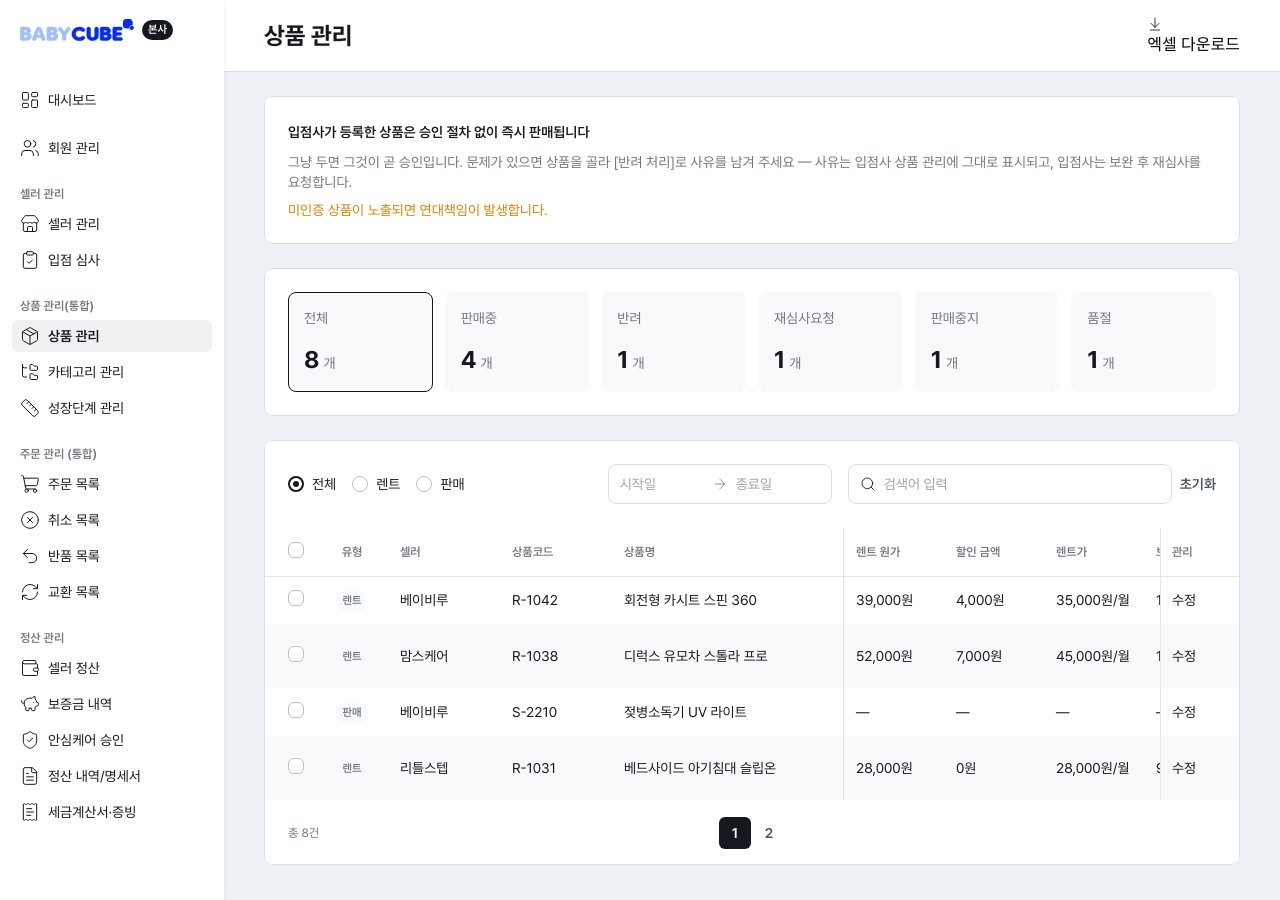
it: ProductListPage › 행 선택과 일괄 처리 › 헤더 체크박스로 현재 페이지를 한 번에 고르면 일괄 바가 뜬다
Expected: the text "4개 선택됨" is not shown
Click the checkbox named "이 페이지 전체 선택": (296, 550) top-left (288, 542), bottom-right (304, 558)
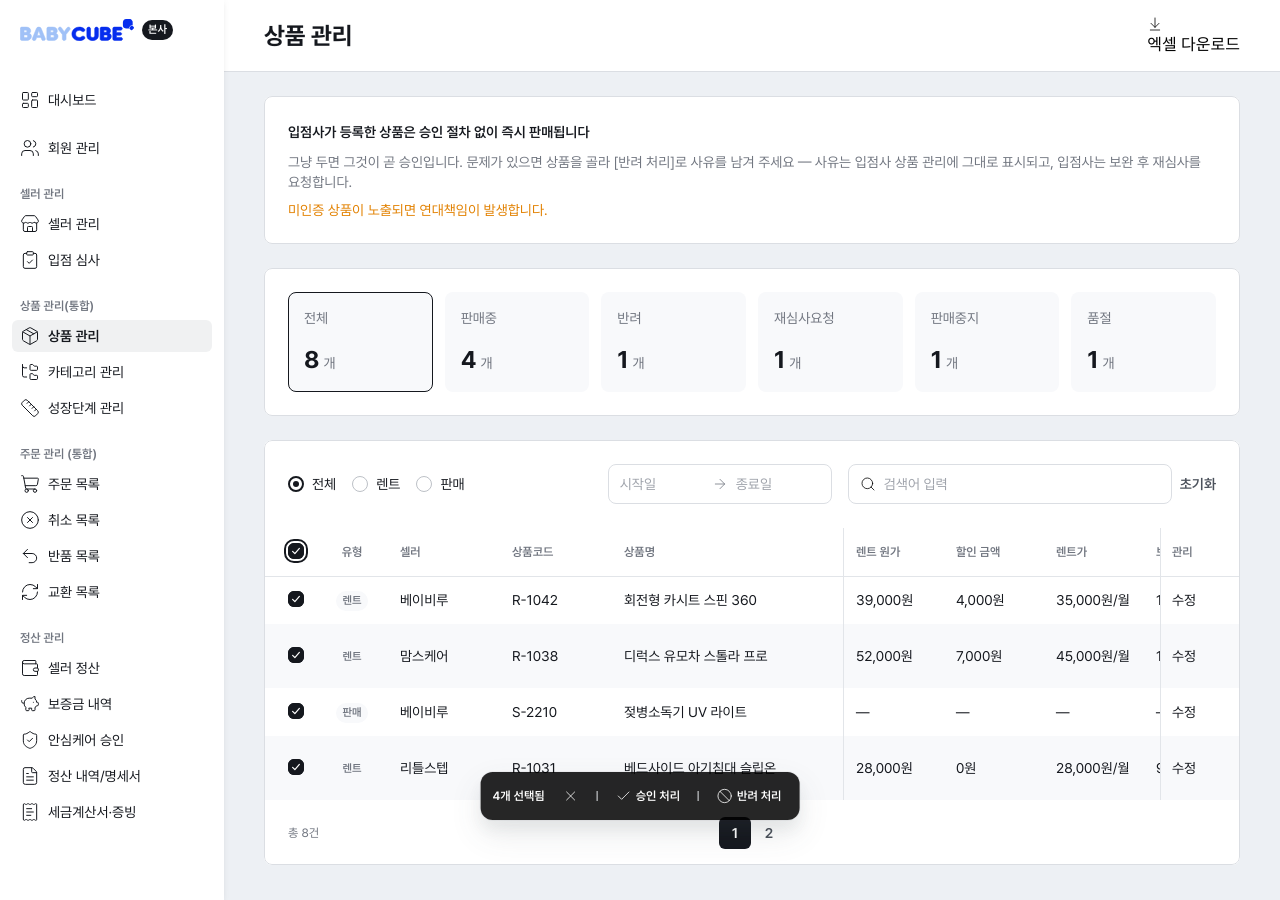
Now the text "4개 선택됨" is shown, box top-left (493, 788), bottom-right (545, 804)
